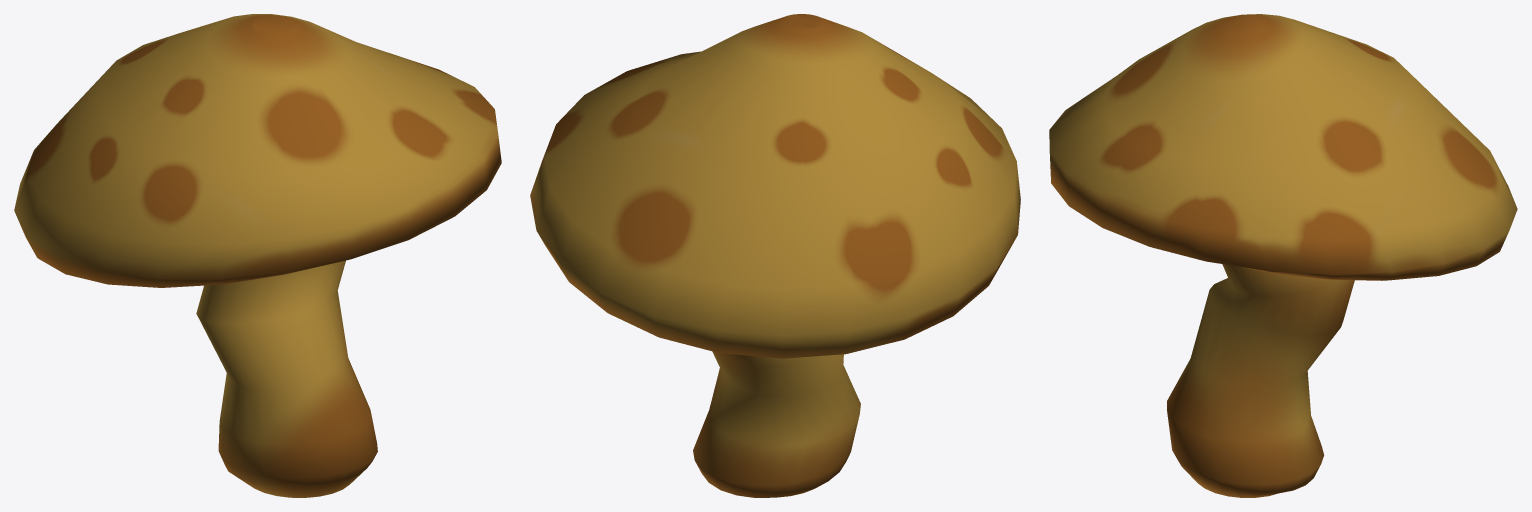
File: Hongo_003_LOD.fbx
3 views of the same model, side by side, from view 1: azimuth 30°, elevation 25°; view 2: azimuth 150°, elevation 25°; view 3: azimuth 270°, elevation 25° (orthographic). The views are drawn at different scales.
Parts seen in each view (by area): view 1: Hongo_03_LOD0; view 2: Hongo_03_LOD0; view 3: Hongo_03_LOD0.
Part boxes in pixels (x1,y1,x2,y2): Hongo_03_LOD0: [14, 14, 501, 497]; Hongo_03_LOD0: [530, 14, 1020, 497]; Hongo_03_LOD0: [1049, 14, 1517, 497].
Size of what is drawn, in the model's own units: 452 by 470 by 452.
